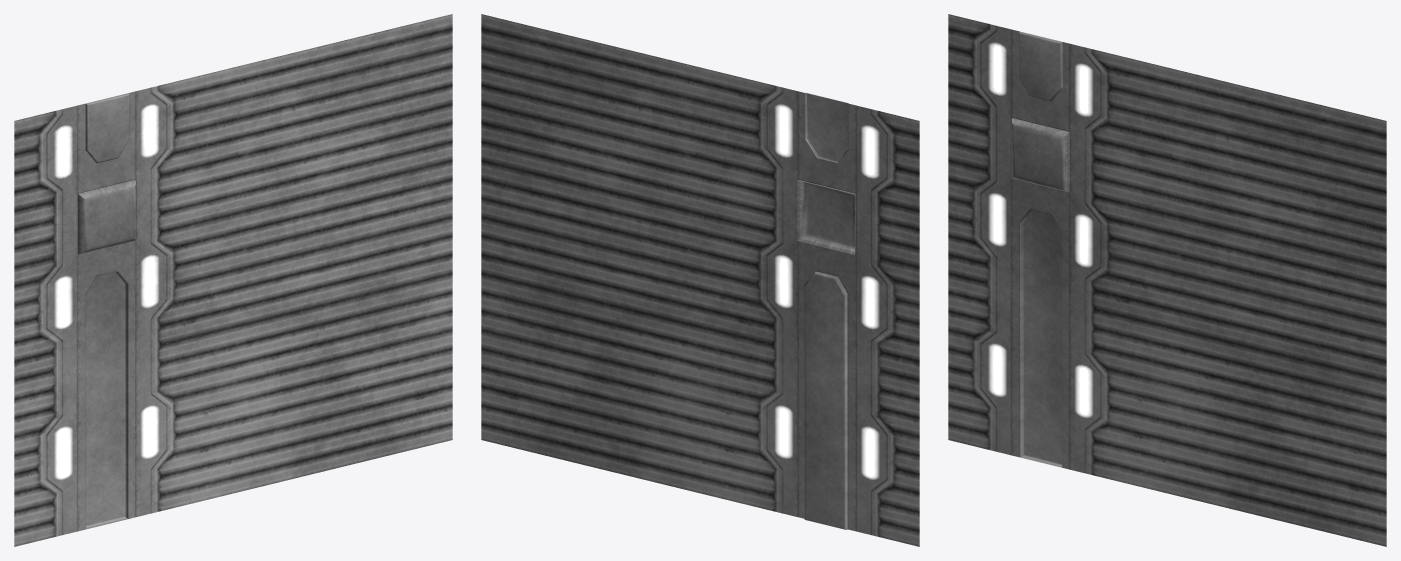
Rendered from Panel_Basic.fbx.
3 renders of one model, left to right at view 1: azimuth 30°, elevation 25°; view 2: azimuth 150°, elevation 25°; view 3: azimuth 330°, elevation 25°, orthographic.
Visible parts, largest first — view 1: Panel_Basic; view 2: Panel_Basic; view 3: Panel_Basic.
Part boxes in pixels (bbox=[...]): Panel_Basic: bbox=[14, 14, 452, 546]; Panel_Basic: bbox=[481, 14, 919, 546]; Panel_Basic: bbox=[948, 14, 1386, 546].
Bounding box in the file's own units: 223 × 207 × 4.66.
Materials: 1 (1 with a texture image).
